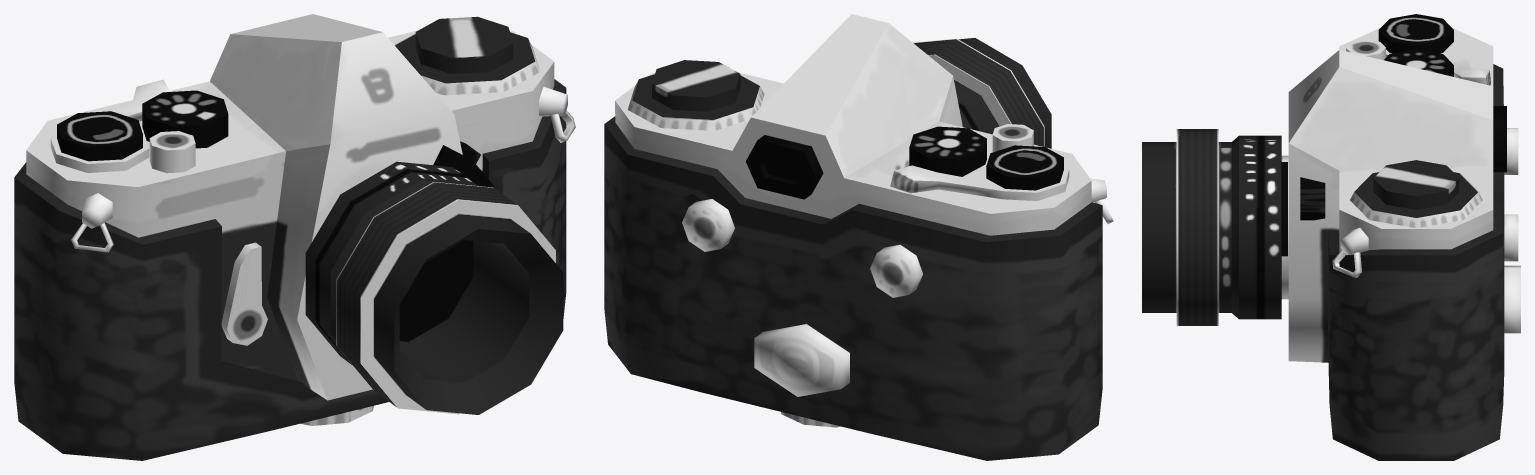
The model's file is obj_Camera.fbx.
The picture shows the model from 3 angles, left to right: view 1: azimuth 30°, elevation 25°; view 2: azimuth 150°, elevation 25°; view 3: azimuth 270°, elevation 25°; orthographic projection. The views are drawn at different scales.
Visible parts, largest first — view 1: Obj_Camera; view 2: Obj_Camera; view 3: Obj_Camera.
Part boxes in pixels (bbox=[...]): Obj_Camera: bbox=[14, 14, 575, 460]; Obj_Camera: bbox=[604, 14, 1113, 460]; Obj_Camera: bbox=[1142, 14, 1520, 460].
Bounding box in the file's own units: 0.1739 × 0.13 × 0.1329.
1 material, 1 textured.
